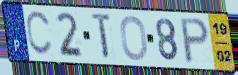2: (57, 11, 84, 58)
8: (155, 17, 181, 63)
C: (24, 10, 54, 58)
O: (119, 15, 149, 62)
P: (179, 17, 211, 66)
T: (91, 11, 113, 61)
